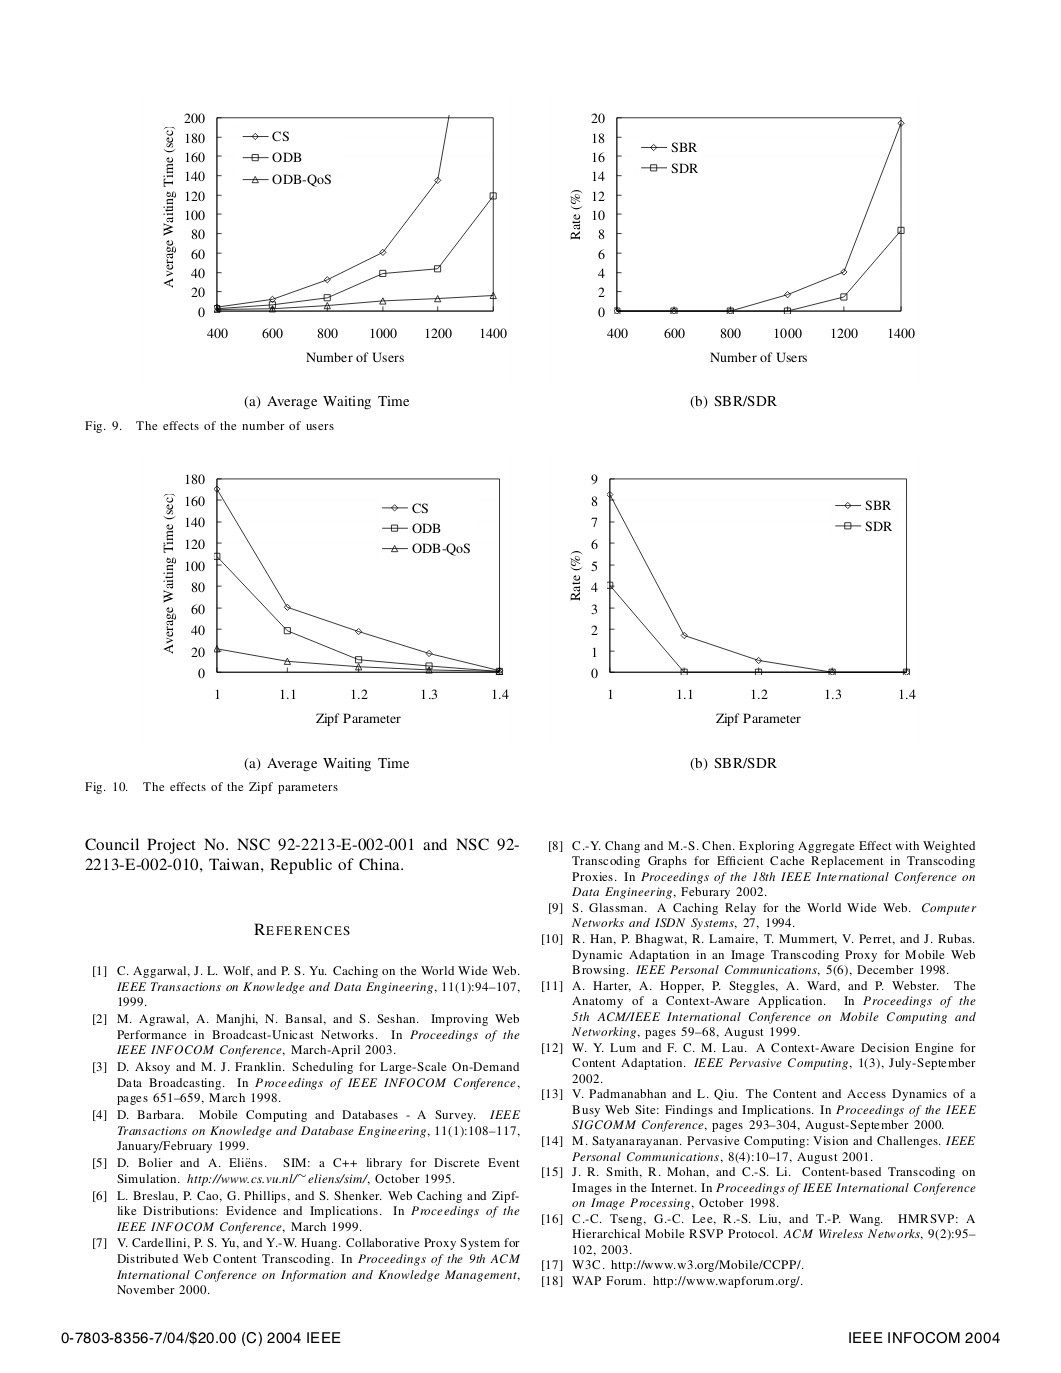figure: (163, 474, 508, 726), (570, 474, 915, 726), (570, 113, 914, 362), (163, 113, 506, 362)
